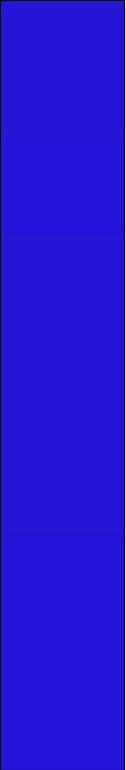safe: (11, 13, 114, 752)
